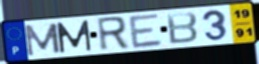3: (199, 8, 230, 42)
B: (164, 11, 200, 46)
E: (127, 12, 165, 50)
M: (22, 21, 63, 57), (55, 19, 94, 55)
R: (95, 15, 132, 53)
